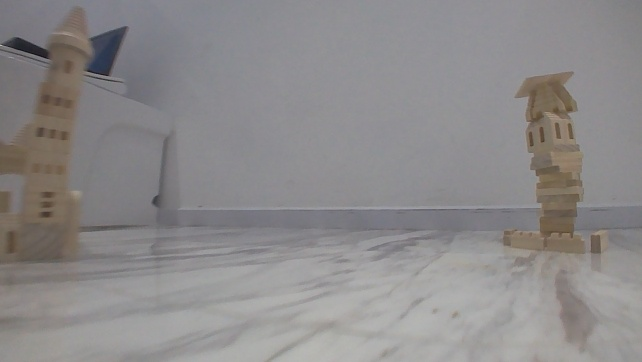plastic_toy: (1, 5, 93, 262), (501, 70, 608, 252)
toilet: (1, 44, 172, 227)
